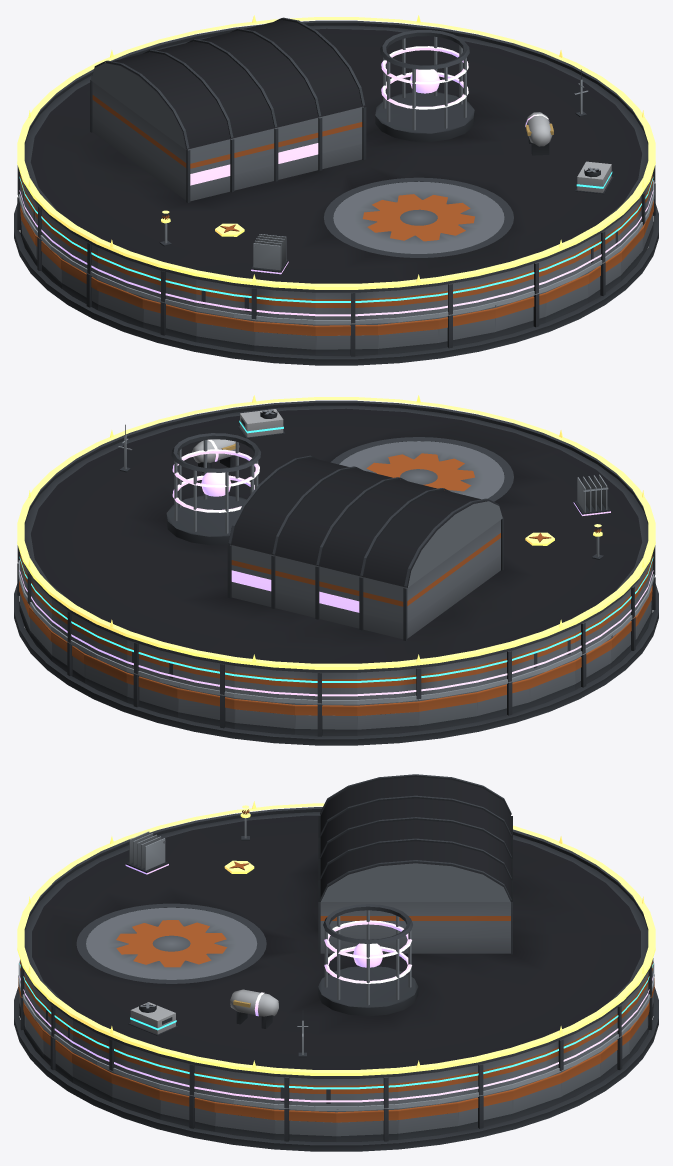
File: metamaterial_foundry_xl_far.glb
3 renders of one model, top to bottom at view 1: azimuth 30°, elevation 25°; view 2: azimuth 150°, elevation 25°; view 3: azimuth 270°, elevation 25°, orthographic.
Visible parts, largest first — view 1: Roof, Base, L5, L4, L2, L3; view 2: Roof, Base, L5, L2, L4, L3; view 3: Roof, Base, L5, L4, L2, L3.
Part boxes in pixels (box(x1,y1,x2,y2)): Roof: box(17, 17, 655, 323); Base: box(14, 183, 658, 365); L5: box(17, 15, 655, 289); L4: box(19, 112, 653, 316); L2: box(18, 69, 654, 324); L3: box(19, 161, 653, 302); Roof: box(17, 400, 655, 703); Base: box(14, 563, 658, 745); L5: box(17, 395, 655, 669); L2: box(18, 424, 654, 704); L4: box(19, 439, 653, 696); L3: box(19, 409, 653, 682); Roof: box(20, 774, 653, 1108); Base: box(14, 974, 658, 1151); L5: box(17, 801, 655, 1075); L4: box(19, 831, 653, 1102); L2: box(18, 960, 654, 1110); L3: box(19, 963, 653, 1089).
Bounding box in the file's own units: 23.15 × 6.51 × 23.15.
